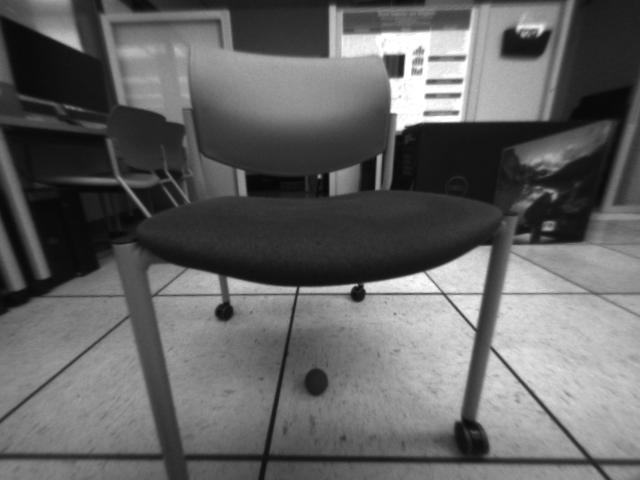dogtoy: (298, 362, 336, 403)
